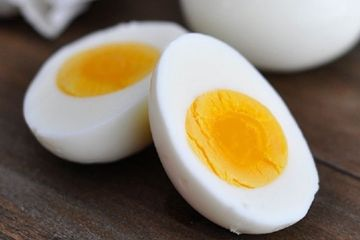Telur: (148, 42, 331, 228), (27, 28, 190, 163)
